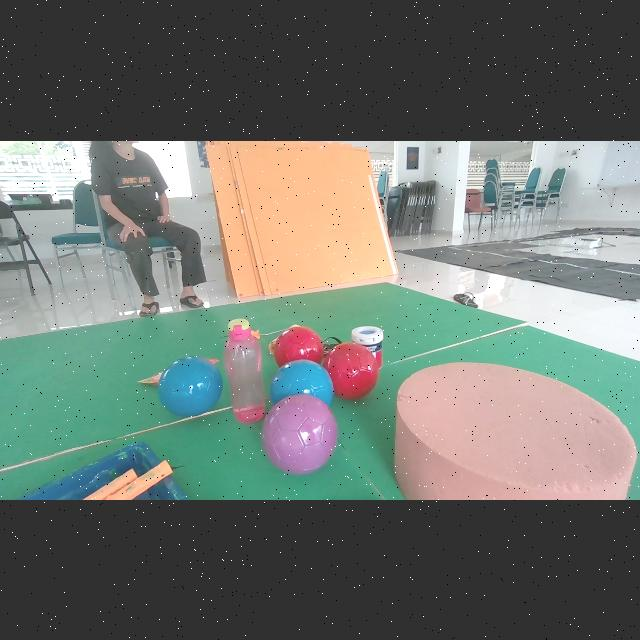B: (158, 356, 223, 416), (270, 361, 334, 405)
P: (263, 394, 338, 474)
R: (322, 342, 379, 399), (274, 325, 324, 366)
